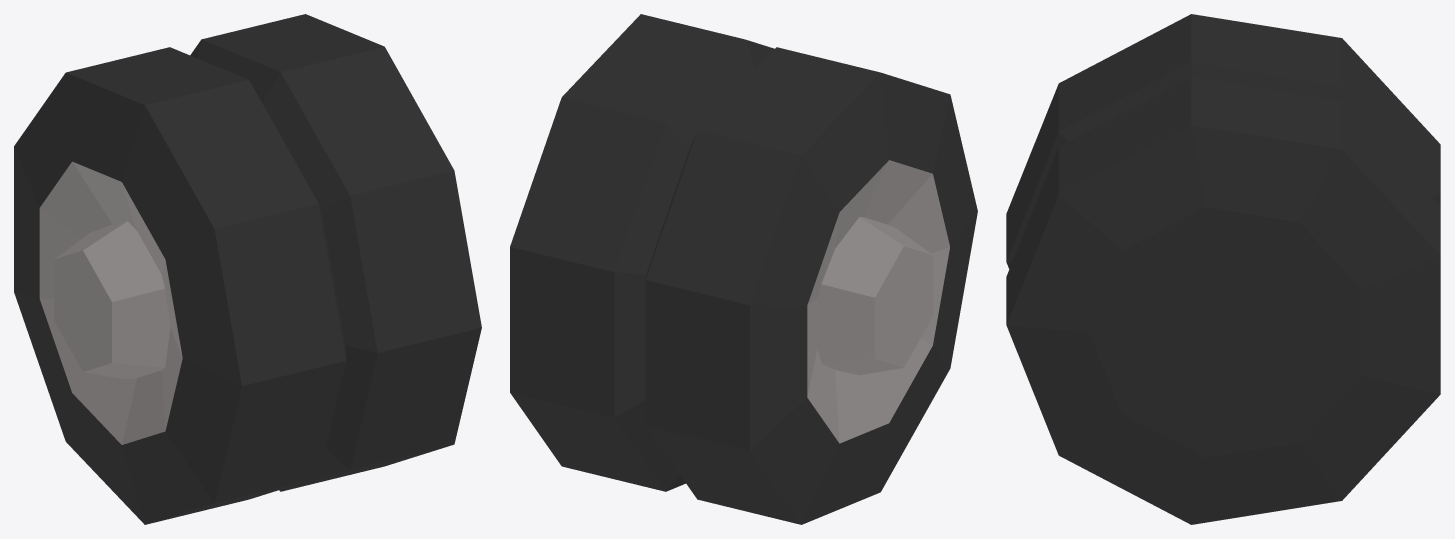
The model's file is bus-passenger-wheel_BR.glb.
The picture shows the model from 3 angles, left to right: view 1: azimuth 30°, elevation 25°; view 2: azimuth 150°, elevation 25°; view 3: azimuth 270°, elevation 25°; orthographic projection. The views are drawn at different scales.
Parts seen in each view (by area): view 1: bus-passenger-wheel_BR; view 2: bus-passenger-wheel_BR; view 3: bus-passenger-wheel_BR.
Boxes of the visible parts, x1=… form: bus-passenger-wheel_BR: x1=14, y1=14, x2=481, y2=524; bus-passenger-wheel_BR: x1=510, y1=14, x2=977, y2=524; bus-passenger-wheel_BR: x1=1006, y1=14, x2=1440, y2=524.
Bounding box in the file's own units: 0.7995 × 1.08 × 1.06.
Materials: 1 (1 with a texture image).
